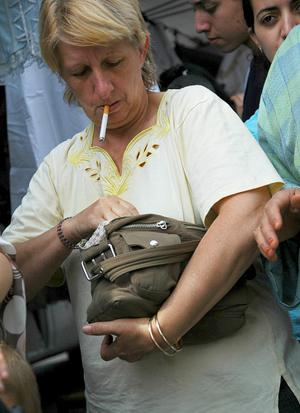person: (1, 3, 290, 412)
